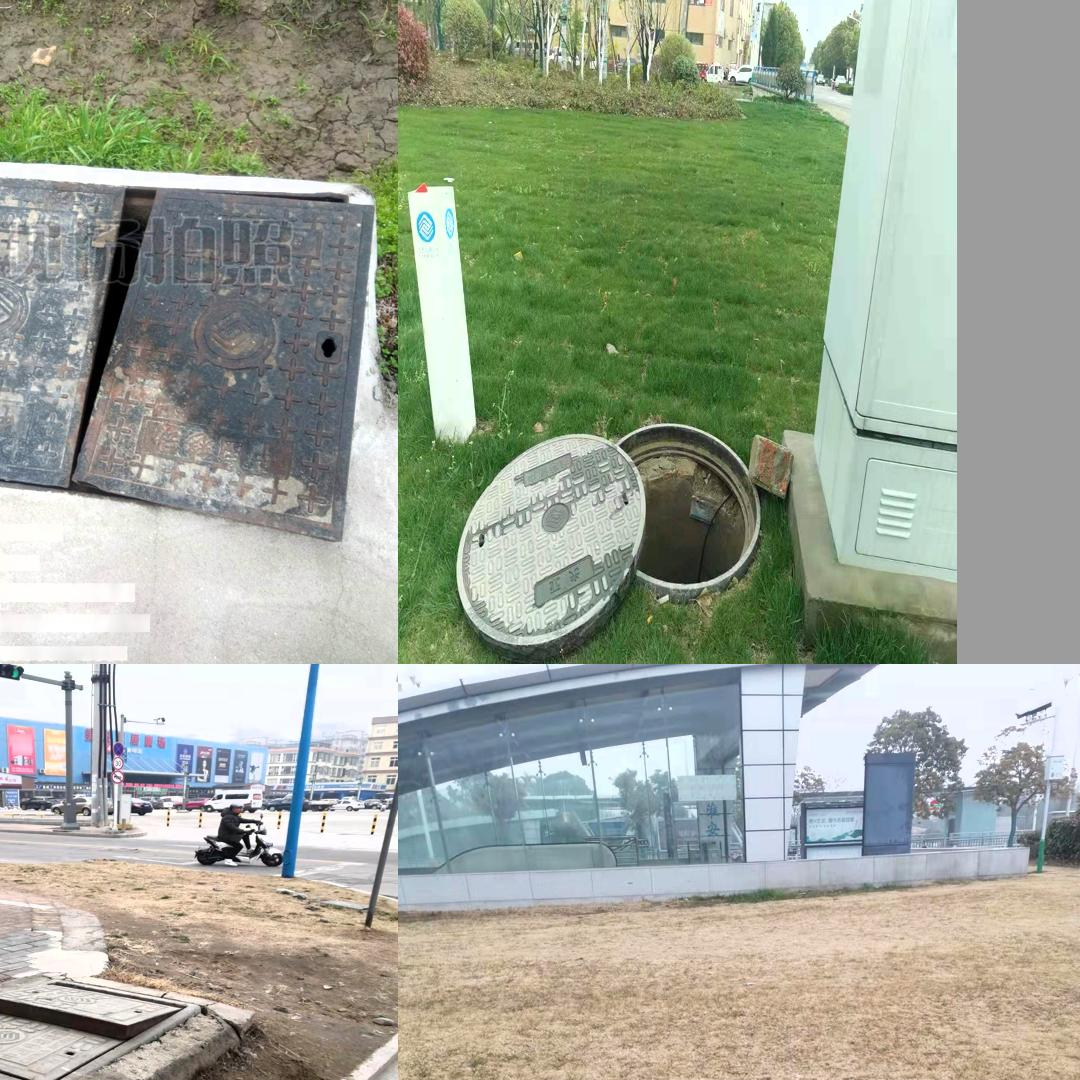uncovered: (0, 158, 392, 561), (457, 405, 764, 643), (0, 957, 226, 1047)
